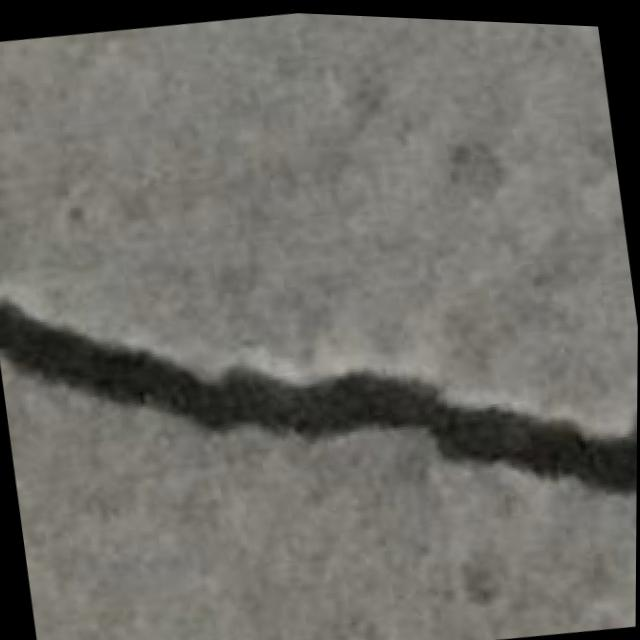Crack: (0, 201, 639, 611)
